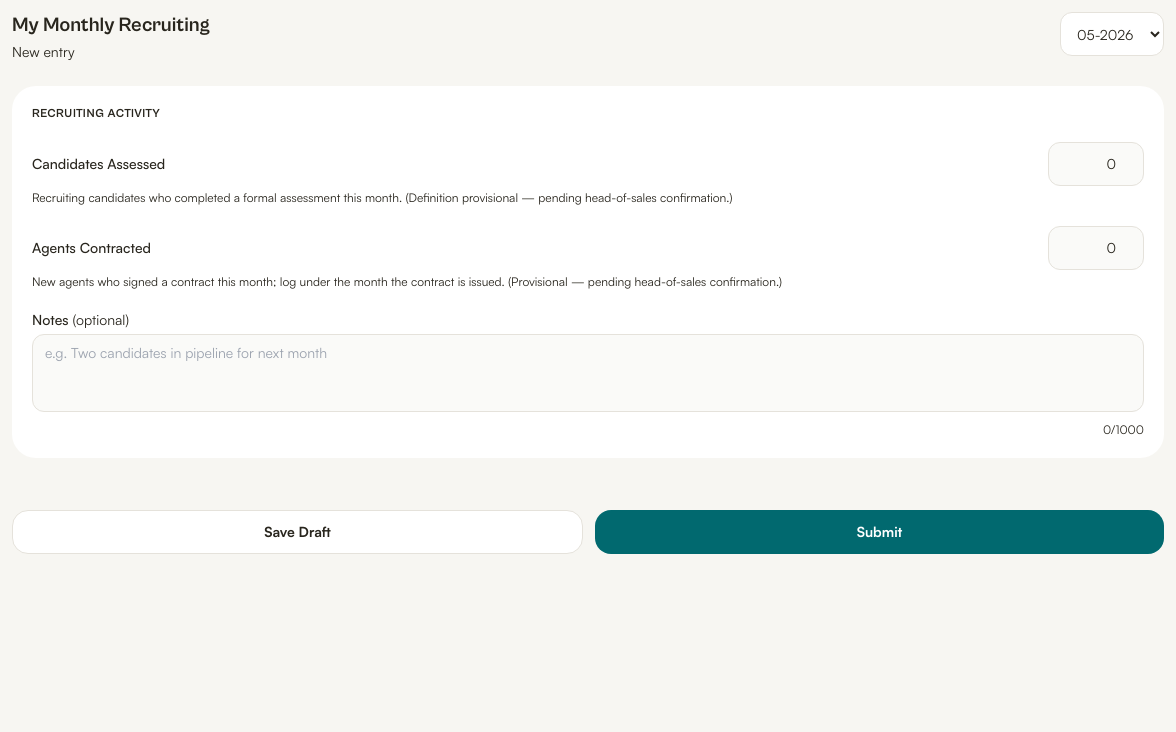
Test: Submit › shows submit error on failure
The width and height of the screenshot is (1176, 732).
Click the button "Submit" at [880, 532], box [595, 510, 1164, 554]
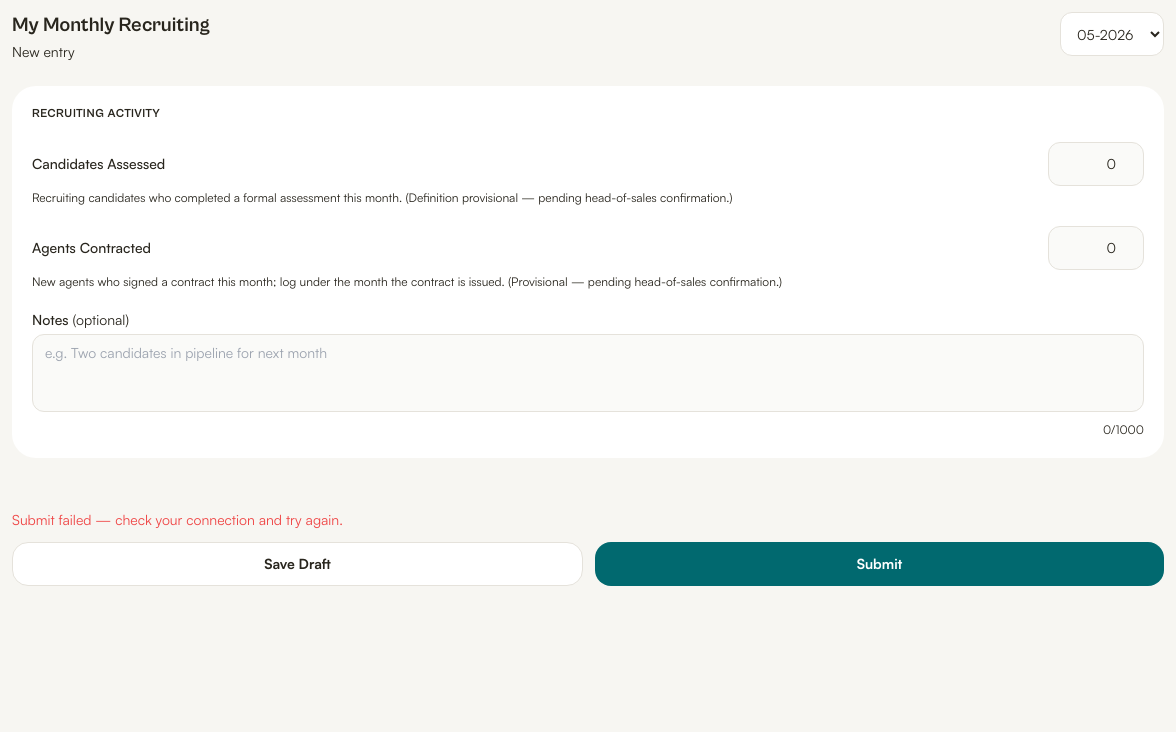
Expected: the message shows "Submit failed", [12, 511, 343, 528]
